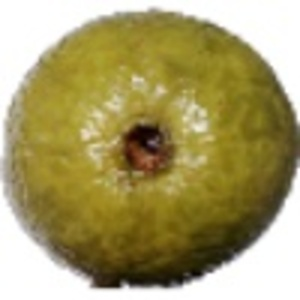goiaba: (3, 4, 296, 288)
